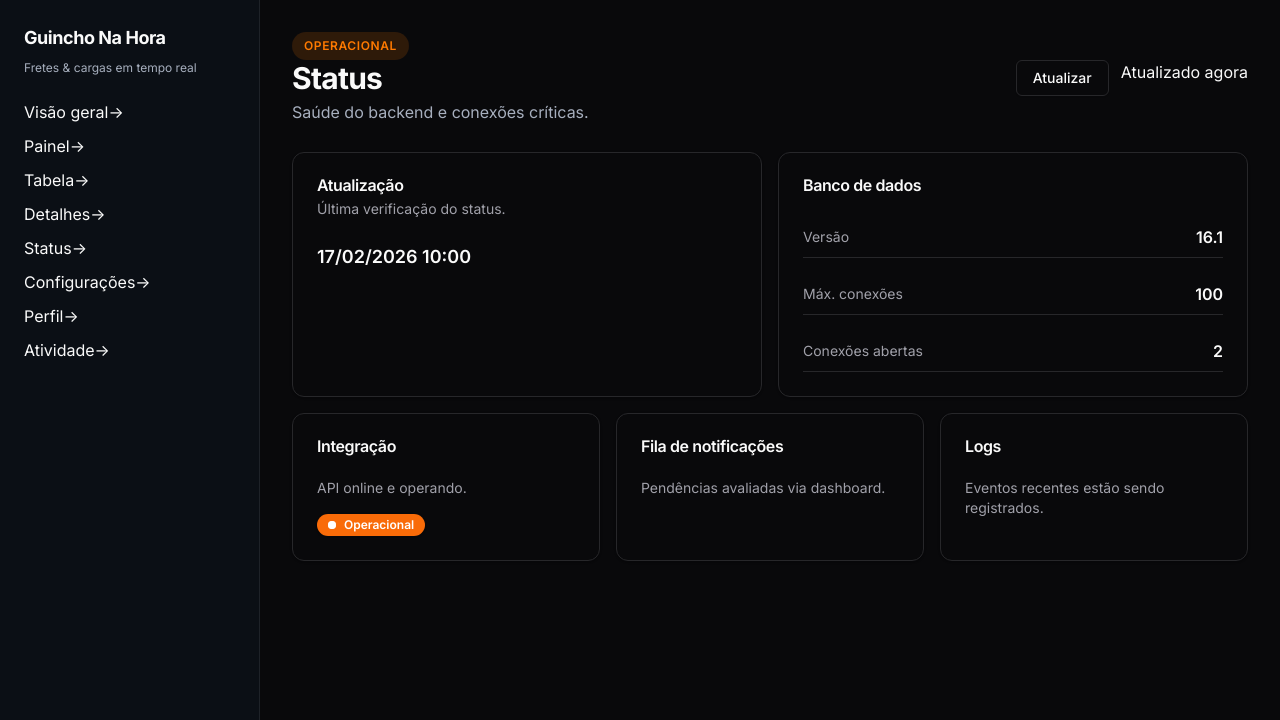
Scenario: Status page › refresh feedback › shows error feedback when refresh fails
Click the button "Atualizar": coordinates (1062, 78) [1016, 60, 1109, 96]
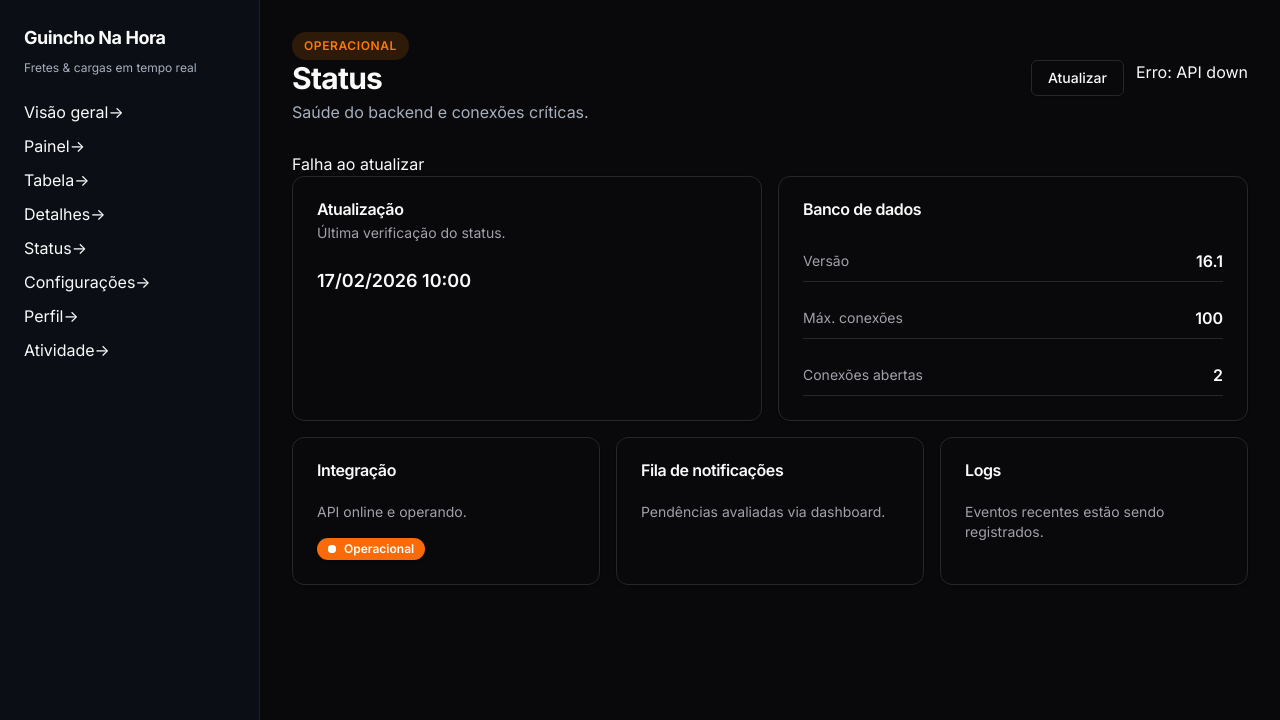
Now the text "Erro: API down" is shown, box [1136, 62, 1248, 82]
